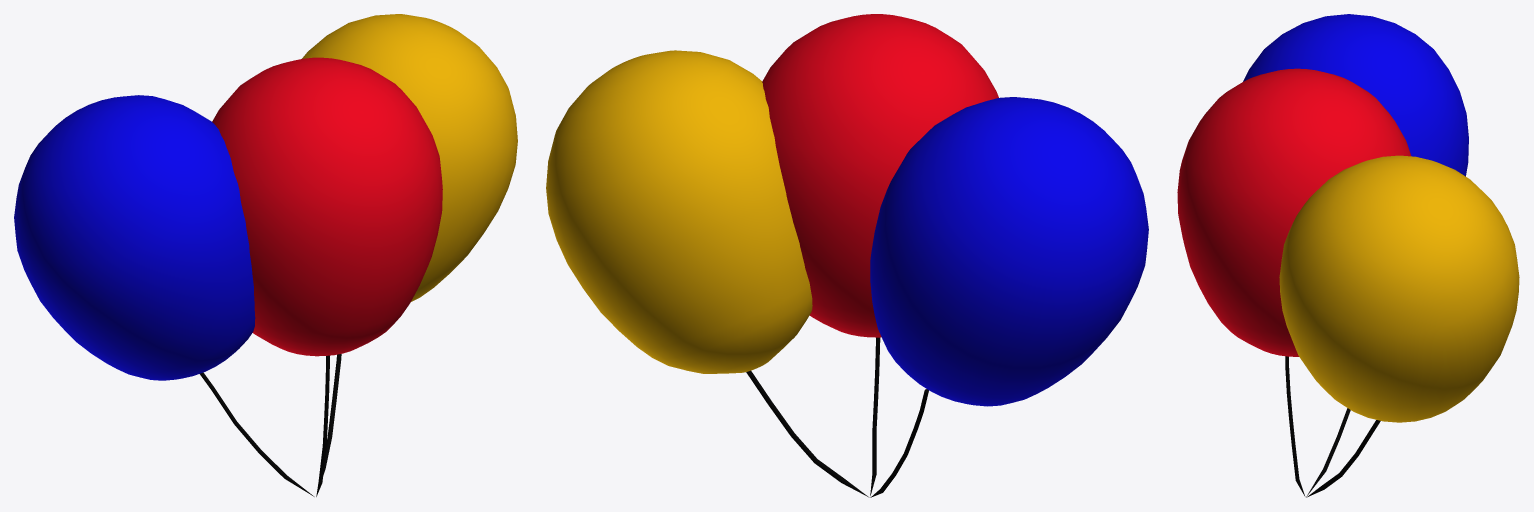
Rendered from uploads_files_4644508_Balloons.fbx.
The picture shows the model from 3 angles, left to right: view 1: azimuth 30°, elevation 25°; view 2: azimuth 150°, elevation 25°; view 3: azimuth 270°, elevation 25°; orthographic projection. The views are drawn at different scales.
Parts seen in each view (by area): view 1: Sphere.002, Sphere, Sphere.001, Cylinder; view 2: Sphere.002, Sphere.001, Sphere, Cylinder; view 3: Sphere.001, Sphere, Sphere.002, Cylinder.
Boxes of the visible parts, x1,y1,x2,y2 form: Sphere.002: (14,95,255,380); Sphere: (212,57,442,356); Sphere.001: (302,14,517,301); Cylinder: (200,354,341,496); Sphere.002: (870,97,1148,406); Sphere.001: (546,50,812,373); Sphere: (762,14,998,337); Cylinder: (746,337,928,497); Sphere.001: (1279,155,1519,422); Sphere: (1177,68,1411,356); Sphere.002: (1243,14,1468,176); Cylinder: (1285,356,1380,497).
Size of the model in its own units: 646 by 538 by 399.
